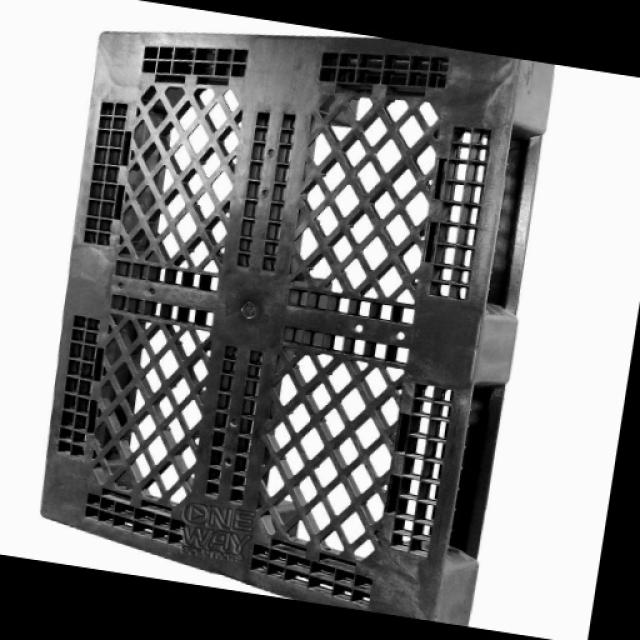non-igps: (35, 24, 561, 632)
